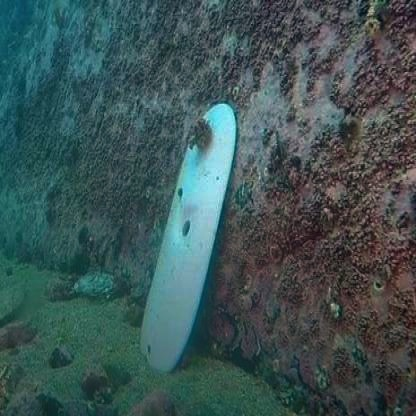electronics: (148, 89, 240, 416)
